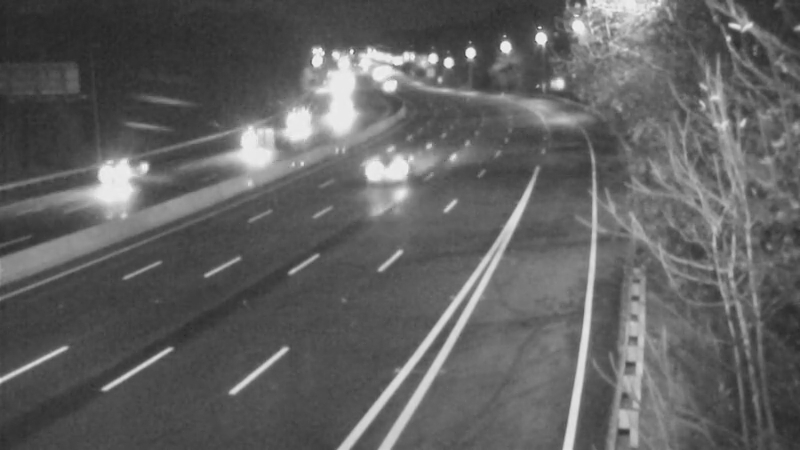vehicle: (355, 125, 435, 205), (48, 143, 128, 223), (212, 111, 292, 191), (268, 97, 318, 147), (316, 92, 366, 142)
